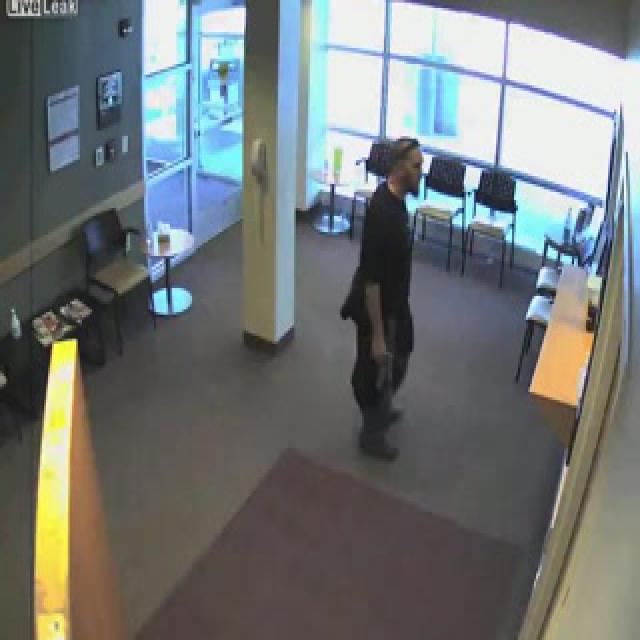Gun: (368, 342, 388, 389)
